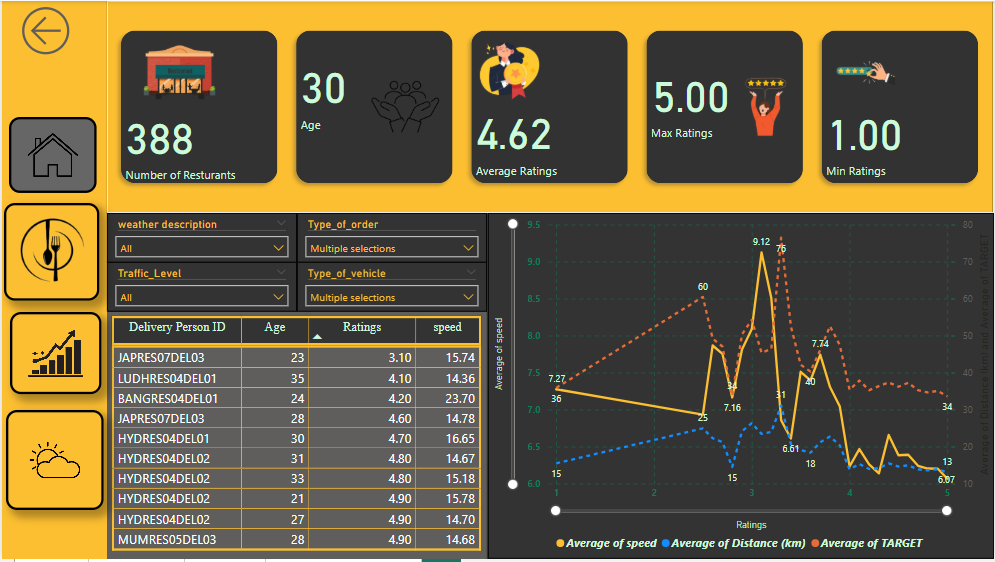

The page's visual inventory and layout, read from the dashboard file:
{"tool":"powerbi","page":{"name":"Home","canvas":[1280,720],"ordinal":0},"visuals":[{"type":"shape","box":[0,0,136.7,720],"z":0},{"type":"cardVisual","fields":{"Data":["Count(clean_Food_Time_Data_set.Resturant Location)","Avg(clean_Food_Time_Data_set.Delivery_person_Age)","Avg(clean_Food_Time_Data_set.Delivery_person_Ratings)","Max(clean_Food_Time_Data_set.Delivery_person_Ratings)","Min(clean_Food_Time_Data_set.Delivery_person_Ratings)"]},"box":[136.1,0,1143.8,273.5],"z":1000},{"type":"tableEx","fields":{"Values":["clean_Food_Time_Data_set.Delivery_person_ID","clean_Food_Time_Data_set.Delivery_person_Age","clean_Food_Time_Data_set.Delivery_person_Ratings","clean_Food_Time_Data_set.speed"]},"box":[136.1,401.1,490.4,318.9],"z":2000},{"type":"lineChart","fields":{"Y2":["Avg(clean_Food_Time_Data_set.Distance (km))","Avg(clean_Food_Time_Data_set.TARGET)"],"Y":["Avg(clean_Food_Time_Data_set.speed)"],"Category":["clean_Food_Time_Data_set.Delivery_person_Ratings"]},"box":[626.5,273.5,653.4,446.5],"z":3000},{"type":"slicer","fields":{"Values":["clean_Food_Time_Data_set.weather_description"]},"box":[136.1,273.5,245.2,63.8],"z":4000},{"type":"slicer","fields":{"Values":["clean_Food_Time_Data_set.Type_of_order"]},"box":[381.3,273.5,245.2,63.8],"z":5000},{"type":"slicer","fields":{"Values":["clean_Food_Time_Data_set.Traffic_Level"]},"box":[136.1,337.3,245.2,63.8],"z":6000},{"type":"slicer","fields":{"Values":["clean_Food_Time_Data_set.Type_of_vehicle"]},"box":[381.3,337.3,245.2,63.8],"z":7000},{"type":"actionButton","box":[18.3,0,101.7,76.7],"z":8000},{"type":"image","box":[9.9,401.1,117.6,106.3],"z":10000},{"type":"image","box":[5.7,527.2,126.1,129],"z":11000},{"type":"image","box":[8.5,150.2,113.4,97.8],"z":12000},{"type":"image","box":[2.8,260.8,123.3,126.1],"z":13000}]}

Visuals, with their boxes in screenshot pixels (x1, y1, x2, y2), scaled from the page's 1280x720 canvas onto the 995x562 screenshot:
shape: locate(0, 0, 106, 561)
cardVisual - Count(clean_Food_Time_Data_set.Resturant Location) x Avg(clean_Food_Time_Data_set.Delivery_person_Age): locate(106, 0, 994, 213)
tableEx - clean_Food_Time_Data_set.Delivery_person_ID x clean_Food_Time_Data_set.Delivery_person_Age: locate(106, 313, 487, 561)
lineChart - Avg(clean_Food_Time_Data_set.Distance (km)) x Avg(clean_Food_Time_Data_set.TARGET): locate(487, 213, 994, 561)
slicer - clean_Food_Time_Data_set.weather_description: locate(106, 213, 296, 263)
slicer - clean_Food_Time_Data_set.Type_of_order: locate(296, 213, 487, 263)
slicer - clean_Food_Time_Data_set.Traffic_Level: locate(106, 263, 296, 313)
slicer - clean_Food_Time_Data_set.Type_of_vehicle: locate(296, 263, 487, 313)
actionButton: locate(14, 0, 93, 60)
image: locate(8, 313, 99, 396)
image: locate(4, 412, 102, 512)
image: locate(7, 117, 95, 194)
image: locate(2, 204, 98, 302)
